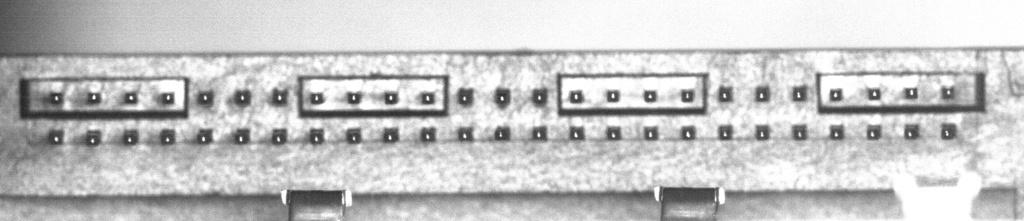pin_ok: (531, 87, 548, 105), (457, 87, 474, 105), (494, 87, 511, 105), (271, 87, 288, 104), (420, 126, 437, 142), (85, 129, 101, 146), (196, 128, 213, 144), (941, 123, 957, 140), (48, 128, 64, 144), (309, 128, 325, 144), (271, 128, 287, 144), (234, 128, 250, 144), (159, 128, 175, 144), (866, 124, 882, 140), (718, 85, 733, 102), (234, 89, 251, 104), (755, 85, 770, 101), (383, 127, 399, 142), (457, 126, 473, 141), (531, 126, 547, 141), (792, 85, 807, 101), (345, 128, 361, 143), (569, 125, 585, 140), (755, 124, 770, 140), (718, 124, 733, 140), (792, 124, 807, 140), (197, 90, 213, 105), (829, 124, 844, 140), (494, 126, 511, 140), (681, 125, 696, 140), (643, 125, 658, 140), (123, 129, 138, 144), (904, 124, 919, 139), (606, 126, 622, 140), (568, 89, 584, 103), (941, 85, 955, 100), (680, 89, 695, 103), (160, 91, 175, 105), (420, 91, 435, 105), (309, 91, 324, 104), (903, 86, 918, 99), (346, 91, 361, 104), (829, 88, 843, 101), (606, 89, 620, 102), (643, 89, 657, 102), (867, 87, 881, 100), (384, 91, 398, 104), (124, 91, 138, 104), (49, 91, 63, 104), (87, 91, 101, 103)
